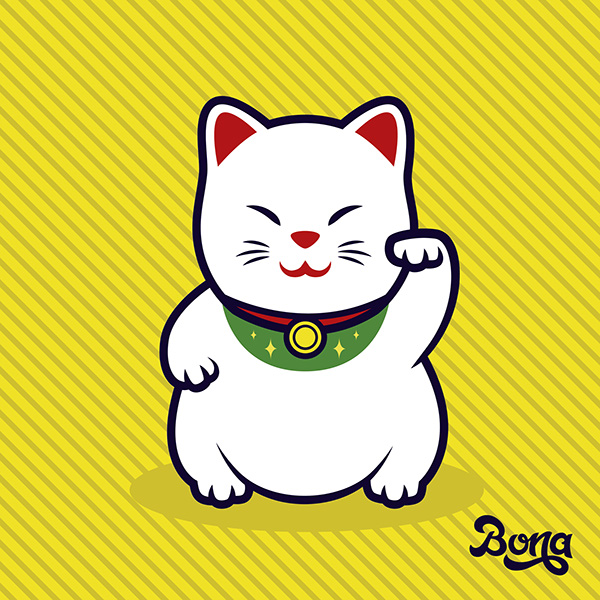cat: (157, 96, 465, 513)
